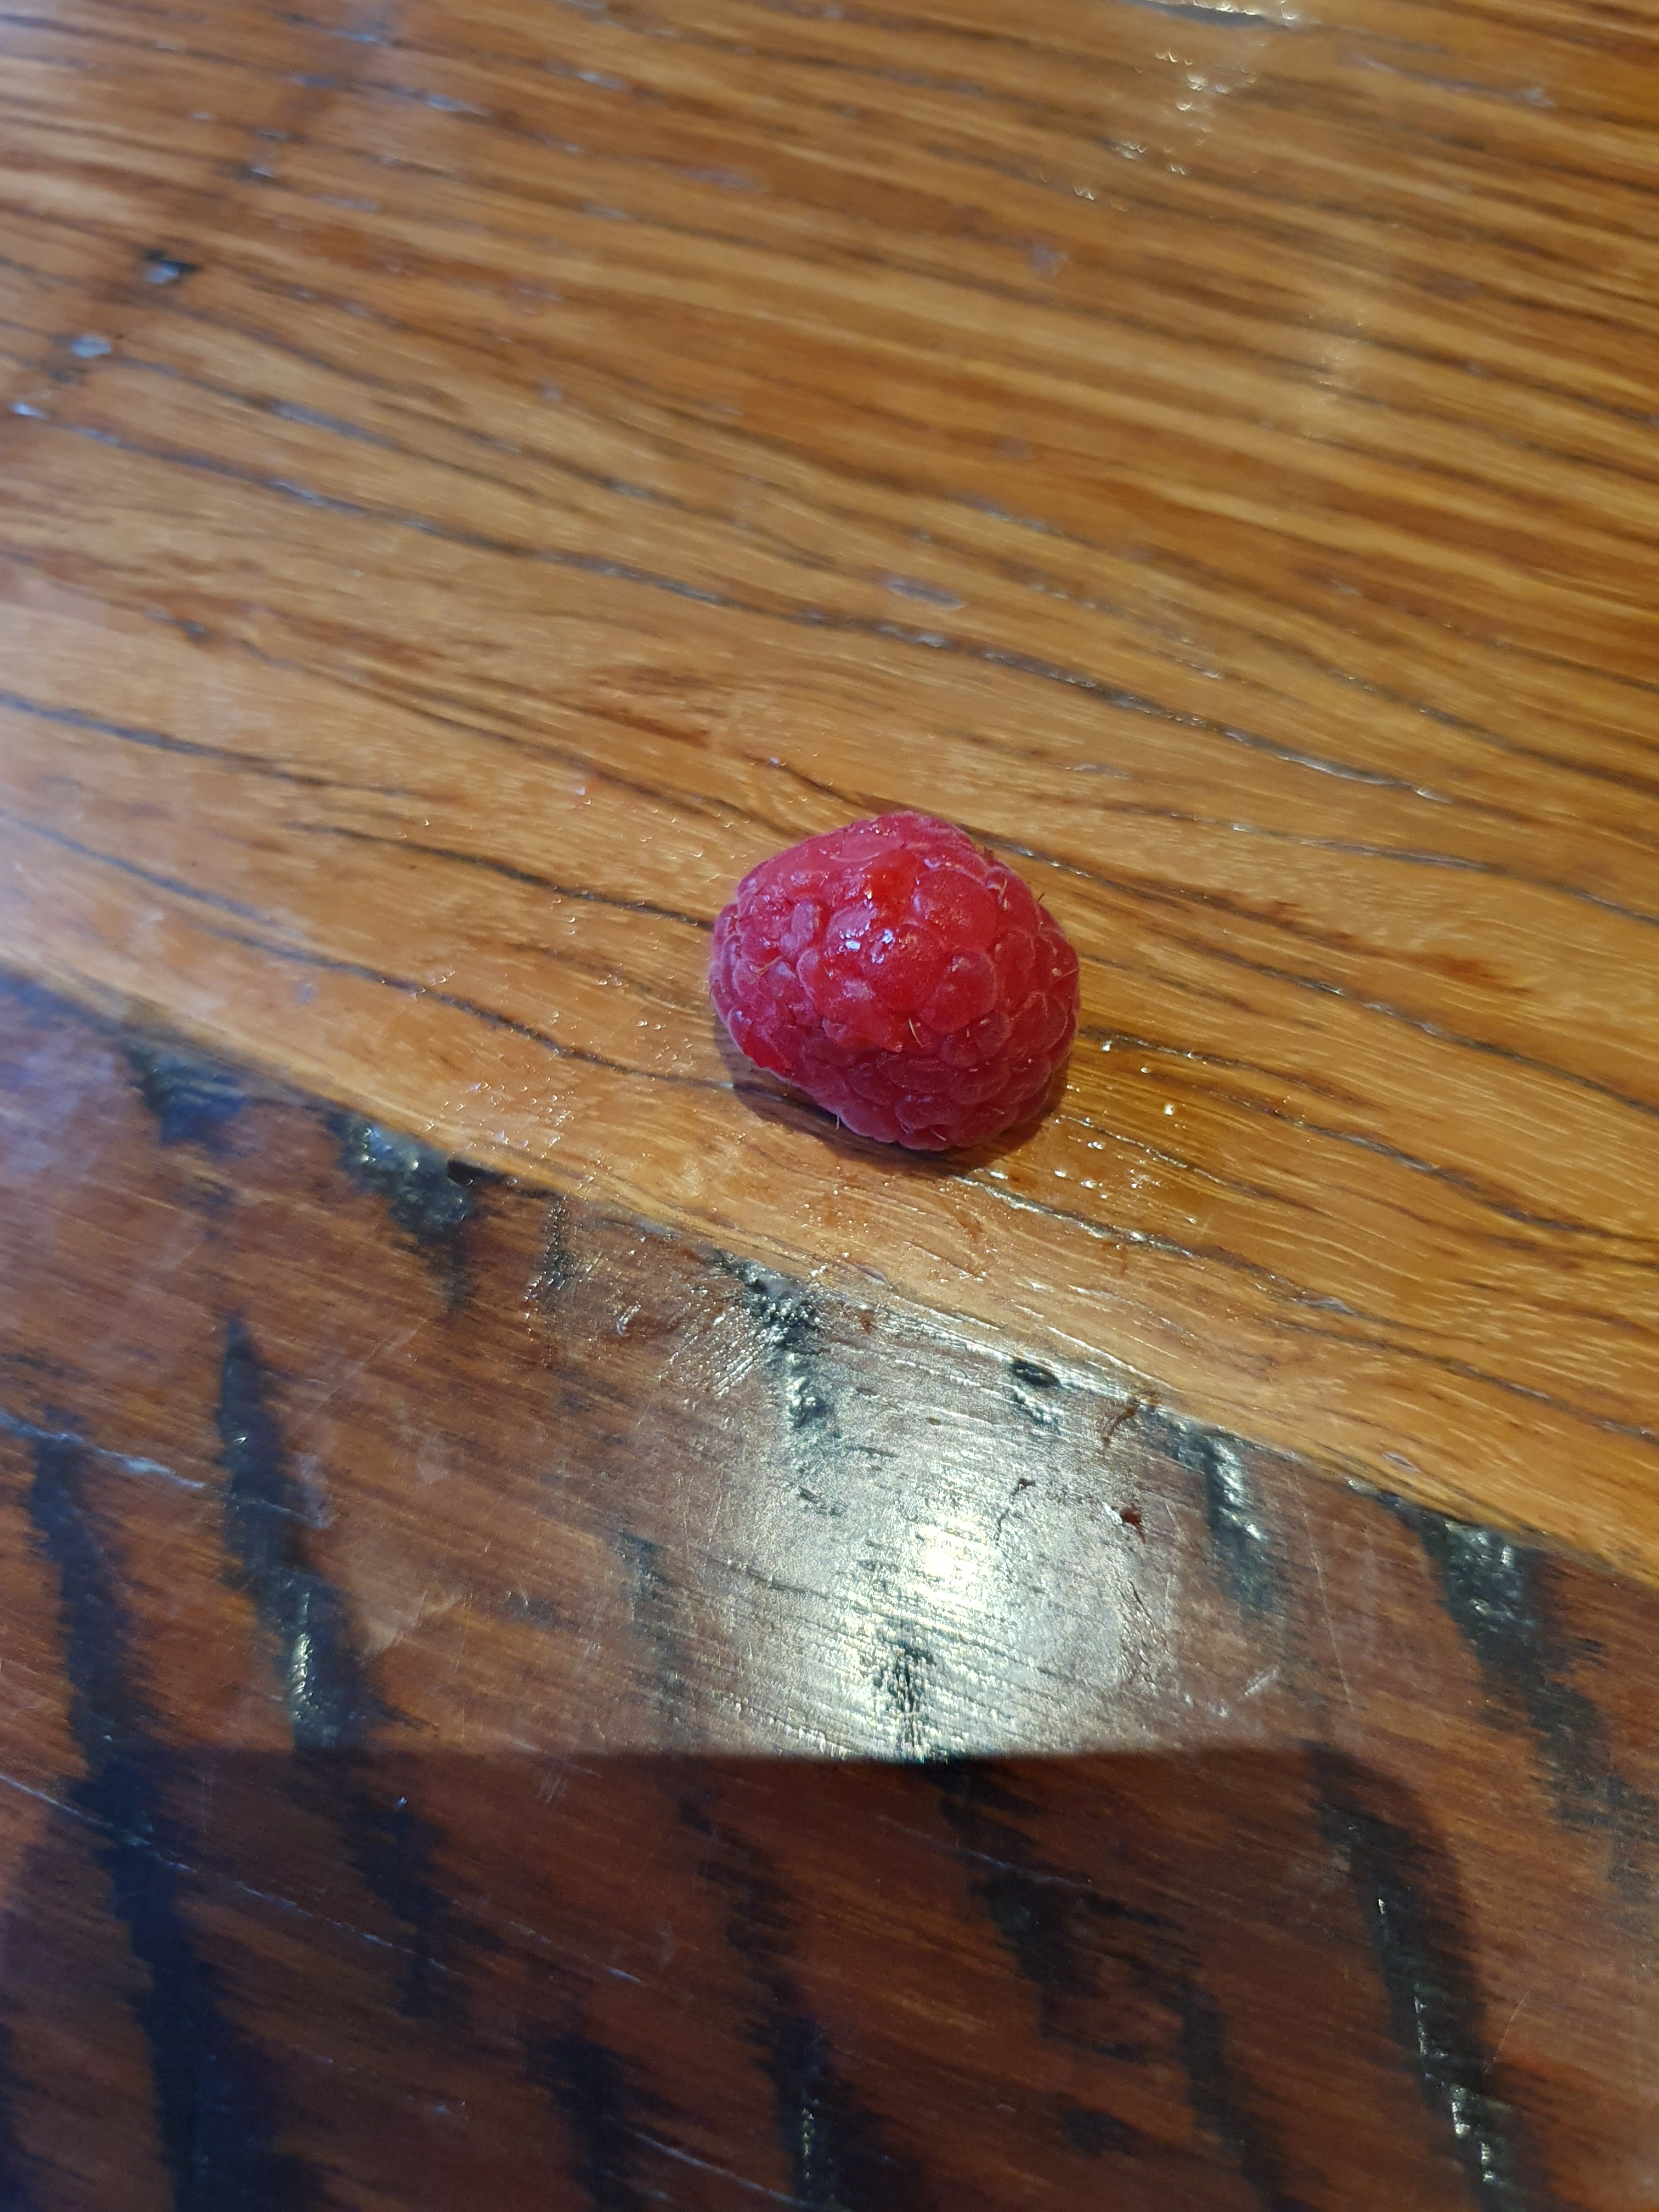raspberry: (655, 752, 1108, 1183)
